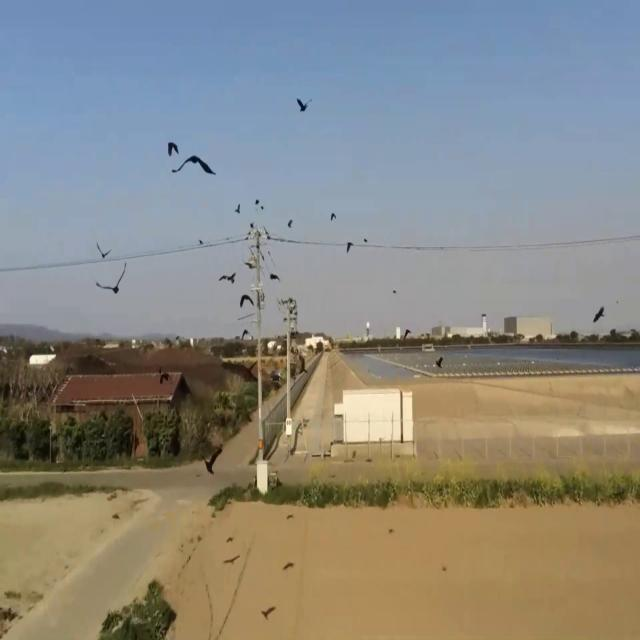bird: (176, 144, 213, 188), (98, 264, 125, 303), (204, 442, 220, 478), (239, 287, 254, 319), (219, 265, 236, 291), (592, 299, 605, 327), (96, 240, 110, 265), (296, 94, 311, 116), (168, 135, 178, 164), (269, 265, 279, 287), (346, 235, 353, 256), (436, 353, 443, 373), (331, 208, 336, 225), (236, 200, 240, 217), (288, 215, 292, 232)
